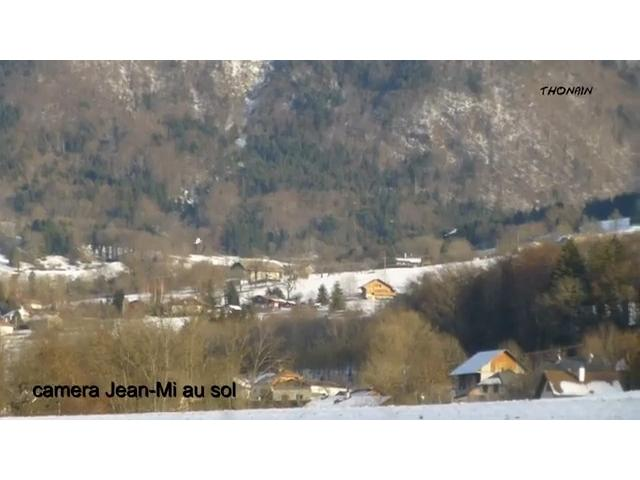Anti-Drone: (180, 231, 212, 255), (442, 222, 462, 242)
